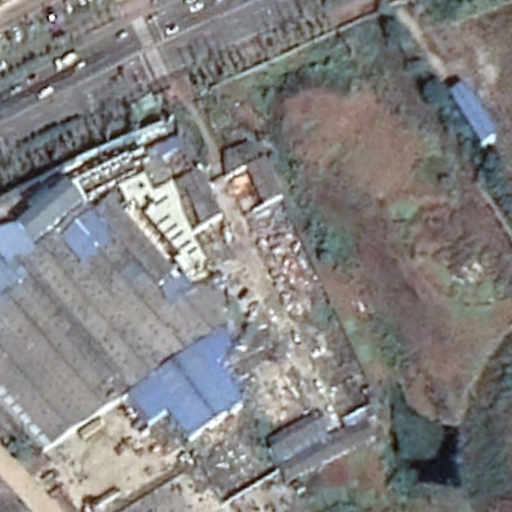msw: (251, 202, 320, 310)
